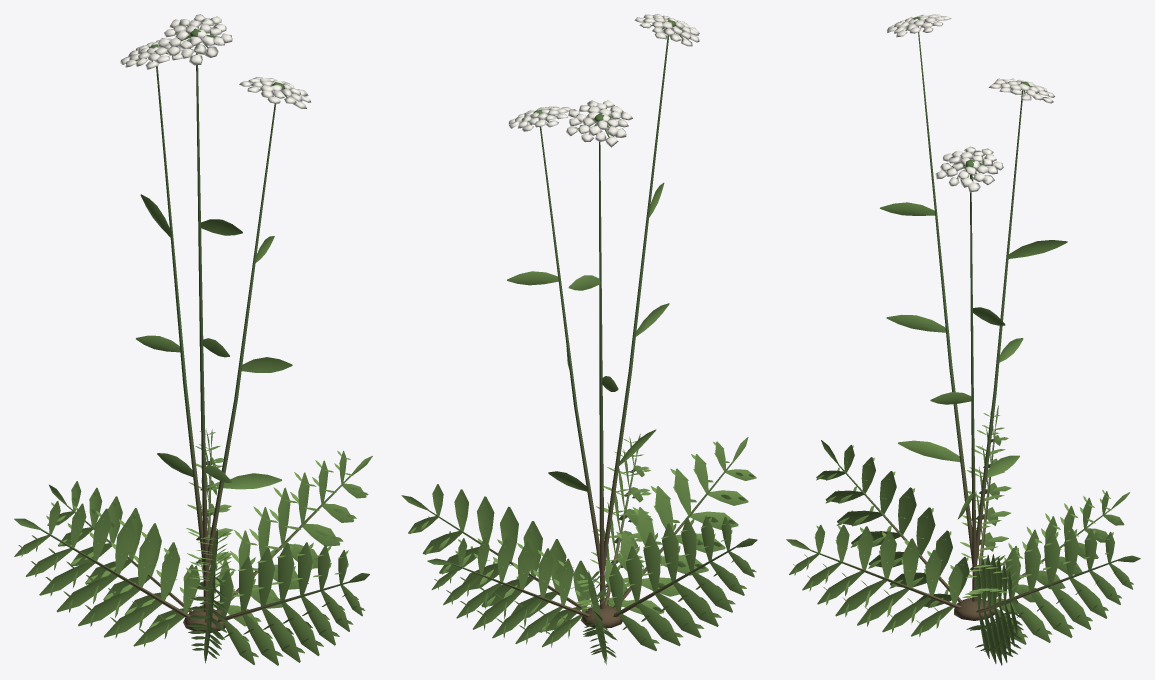
The model's file is Yarrow_lod1.glb.
3 renders of one model, left to right at view 1: azimuth 30°, elevation 25°; view 2: azimuth 150°, elevation 25°; view 3: azimuth 270°, elevation 25°, orthographic. The views are drawn at different scales.
Parts seen in each view (by area): view 1: Plant_LOD1; view 2: Plant_LOD1; view 3: Plant_LOD1.
Part boxes in pixels (x1,y1,x2,y2): Plant_LOD1: (14,14,372,665); Plant_LOD1: (401,14,757,664); Plant_LOD1: (786,14,1140,665).
Bounding box in the file's own units: 0.4035 × 0.6791 × 0.3644.
